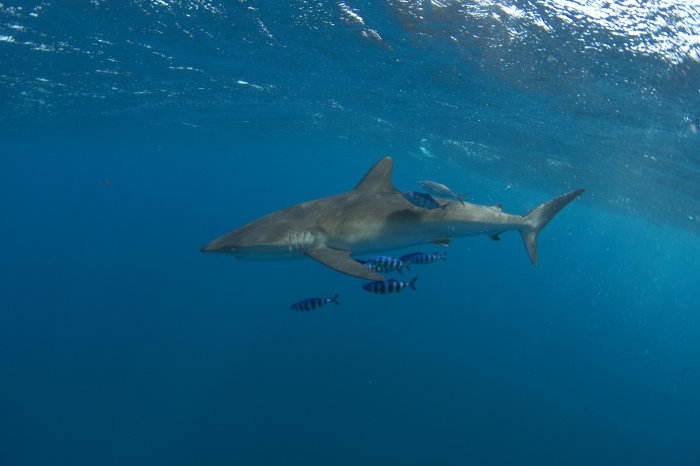Sedoso: (178, 146, 594, 283)
